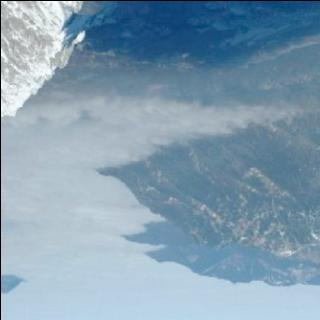Stratus: (0, 70, 225, 294)
